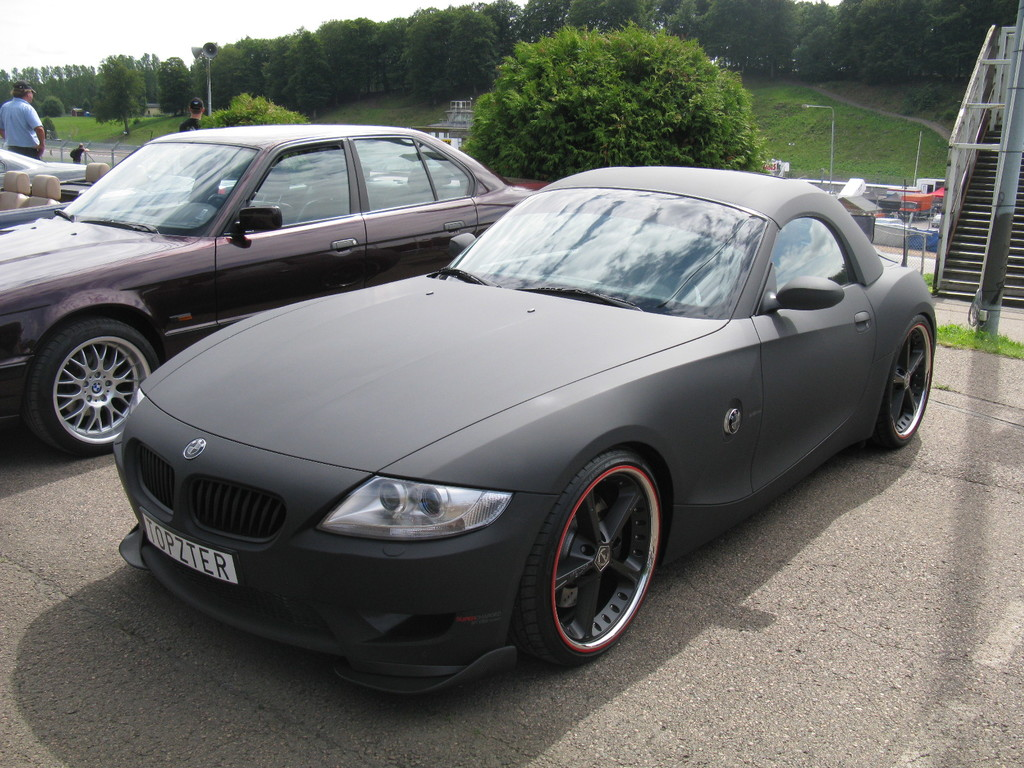Car: (82, 161, 954, 689), (0, 124, 536, 458), (0, 157, 232, 228), (0, 145, 85, 188)
